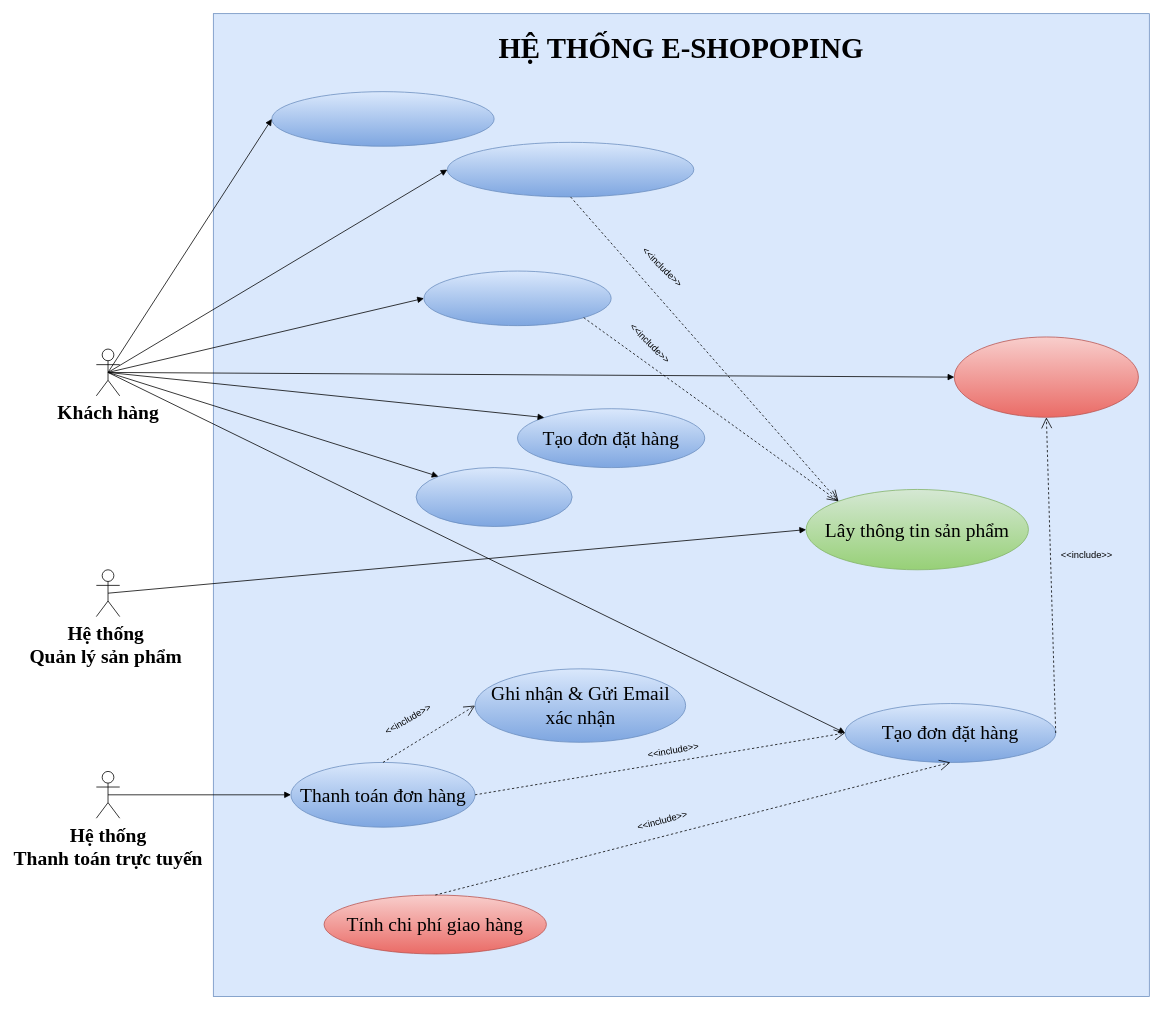
The diagram is 1163 pixels wide and 1010 high, and some of its shapes have lost their labels. Here are the shapes that lost their labels. From the top down, the centre of each, then its label:
At point (382, 118): "Đăng ký tài khoản".
At point (570, 169): "Xem danh sách sản phẩm".
At point (517, 298): "Xem chi tiết sản phẩm".
At point (1046, 376): "Đăng nhập hệ thống".
At point (493, 496): "Quản lý giỏ hàng".
